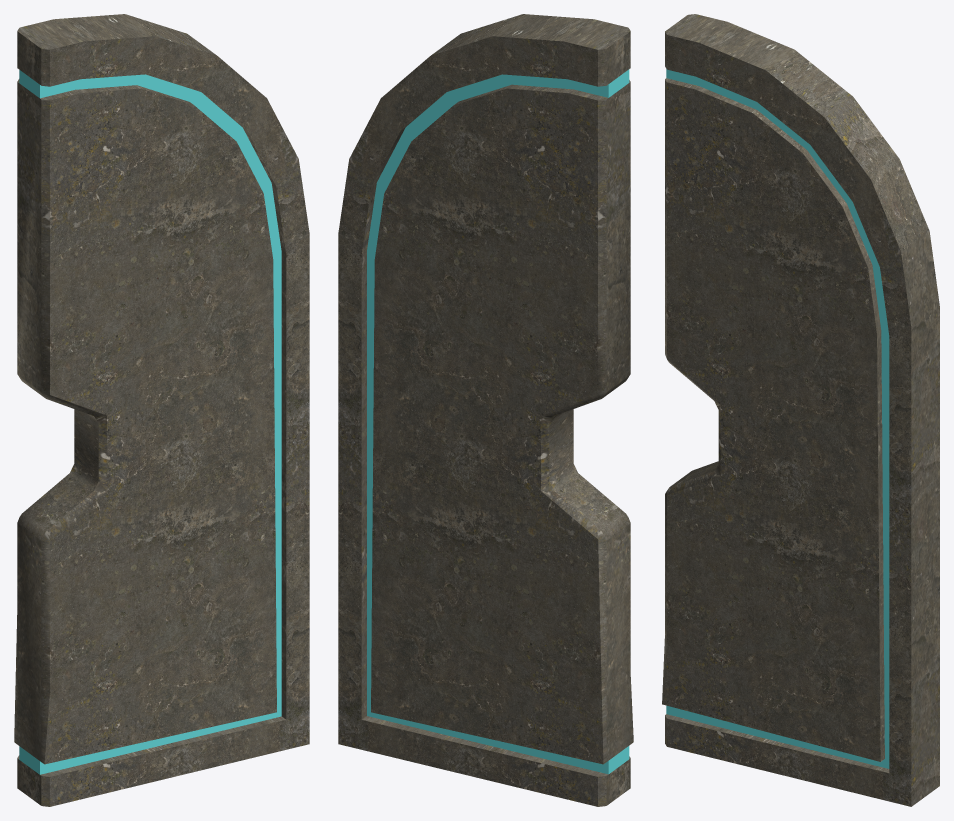
The model's file is Ruins door right.fbx.
3 views of the same model, side by side, from view 1: azimuth 30°, elevation 25°; view 2: azimuth 150°, elevation 25°; view 3: azimuth 330°, elevation 25° (orthographic). The views are drawn at different scales.
Parts seen in each view (by area): view 1: 扉本体右, 光源１.001; view 2: 扉本体右, 光源１.001; view 3: 扉本体右, 光源１.001.
Boxes of the visible parts, <box> form: 扉本体右: <box>14,14,309,806</box>; 光源１.001: <box>19,70,281,774</box>; 扉本体右: <box>338,14,633,806</box>; 光源１.001: <box>367,69,629,774</box>; 扉本体右: <box>662,14,939,806</box>; 光源１.001: <box>666,69,889,768</box>.
Size of the model in its own units: 20.17 by 55.06 by 4.
